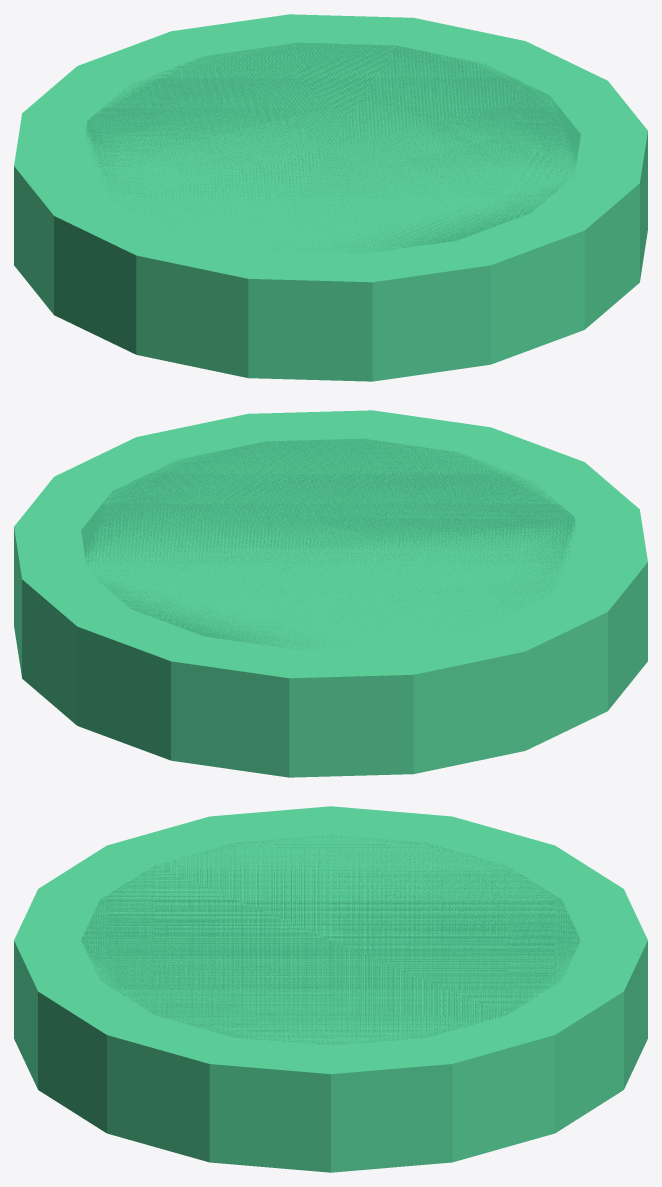
File: pipe_cap.glb
3 views of the same model, one above another, from view 1: azimuth 30°, elevation 25°; view 2: azimuth 150°, elevation 25°; view 3: azimuth 270°, elevation 25° (orthographic).
Visible parts, largest first — view 1: pipe_cap; view 2: pipe_cap; view 3: pipe_cap.
Part boxes in pixels (left/top/right/bottom): pipe_cap: left=14, top=14, right=647, bottom=381; pipe_cap: left=14, top=410, right=647, bottom=777; pipe_cap: left=14, top=806, right=647, bottom=1172.
Bounding box in the file's own units: 3.5 × 0.6 × 3.5.
